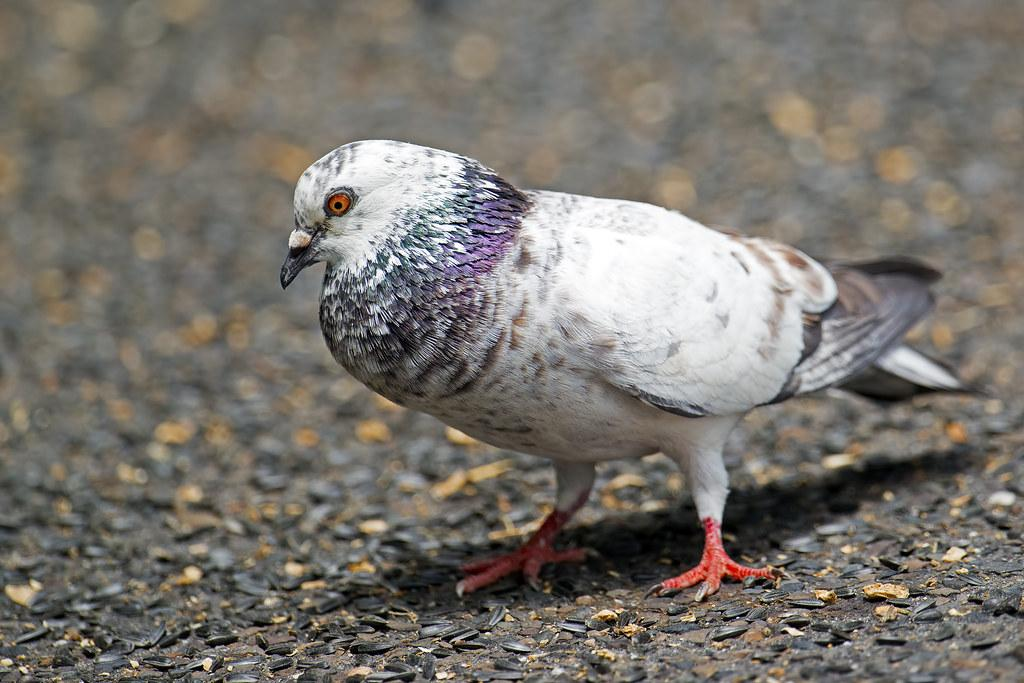Flying Rat: (259, 136, 972, 593)
